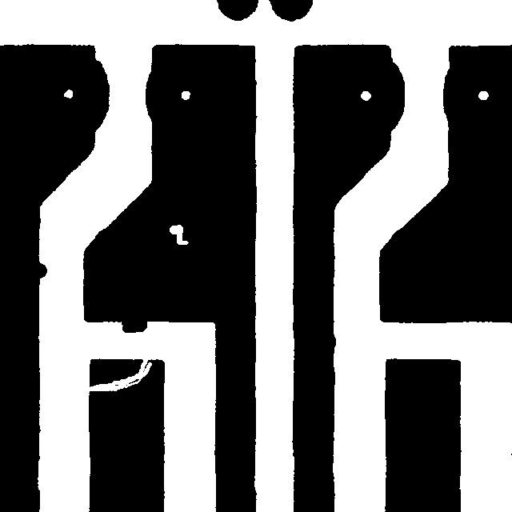open: (78, 349, 159, 398)
pin-hole: (162, 217, 196, 252)
spur: (114, 310, 154, 340), (24, 255, 54, 286)
